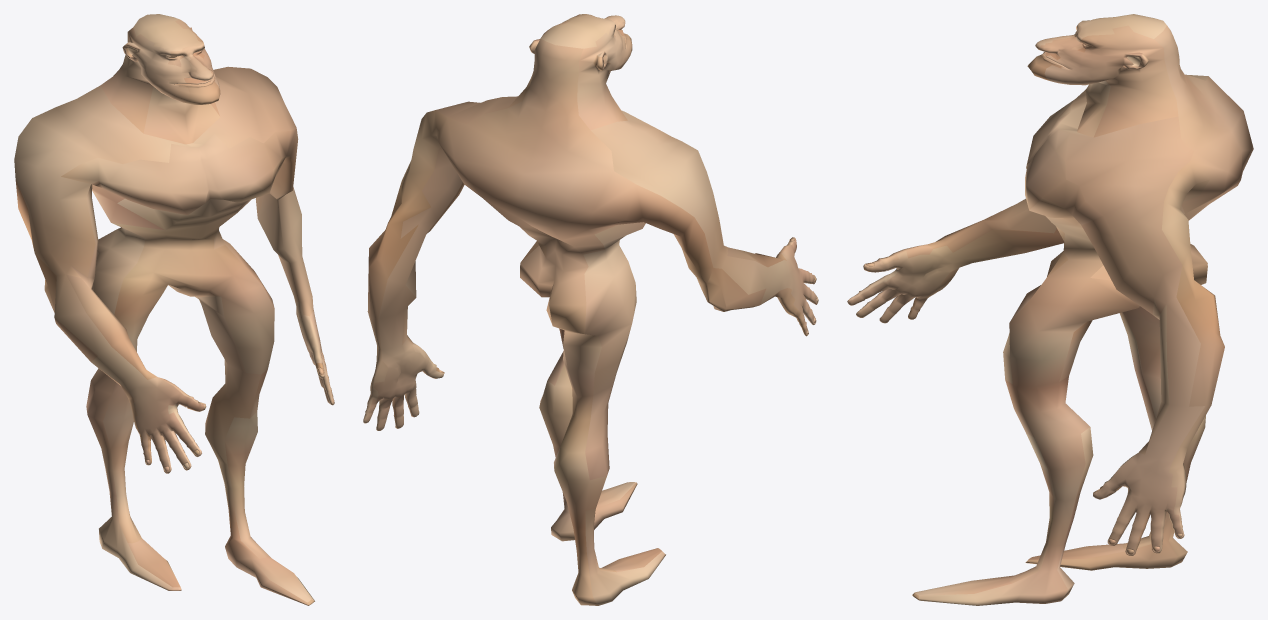
The picture shows the model from 3 angles, left to right: view 1: azimuth 30°, elevation 25°; view 2: azimuth 150°, elevation 25°; view 3: azimuth 270°, elevation 25°; orthographic projection. The views are drawn at different scales.
Parts seen in each view (by area): view 1: soldiersoldier120; view 2: soldiersoldier120; view 3: soldiersoldier120.
Boxes of the visible parts, left/top/right/bottom form: soldiersoldier120: left=14, top=14, right=334, bottom=605; soldiersoldier120: left=363, top=14, right=818, bottom=605; soldiersoldier120: left=847, top=14, right=1253, bottom=605.
Bounding box in the file's own units: 2.74 × 4.39 × 2.89.
Materials: 1 (1 with a texture image).
